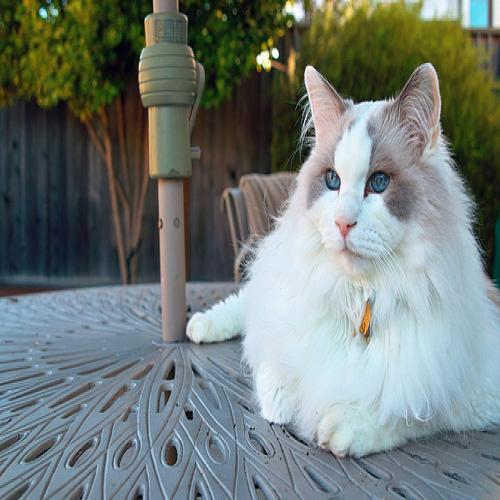ragdoll: (294, 56, 446, 294)
